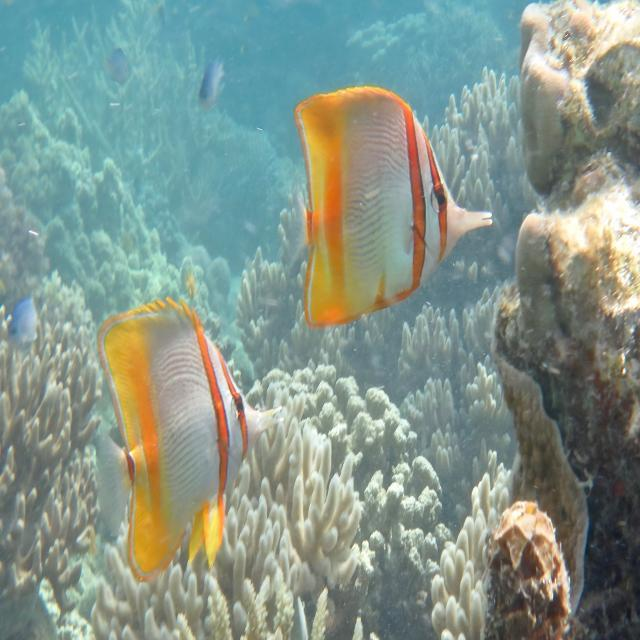ButterflyFish: (288, 81, 494, 331), (94, 292, 268, 586)
